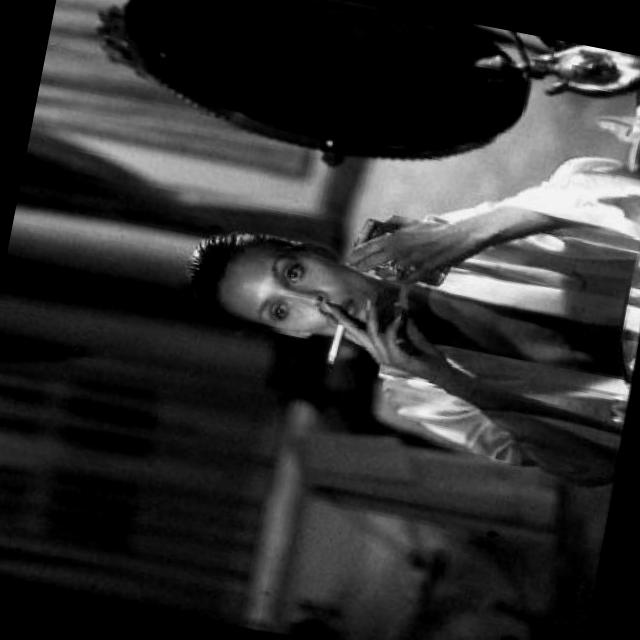smoke: (304, 286, 428, 388)
